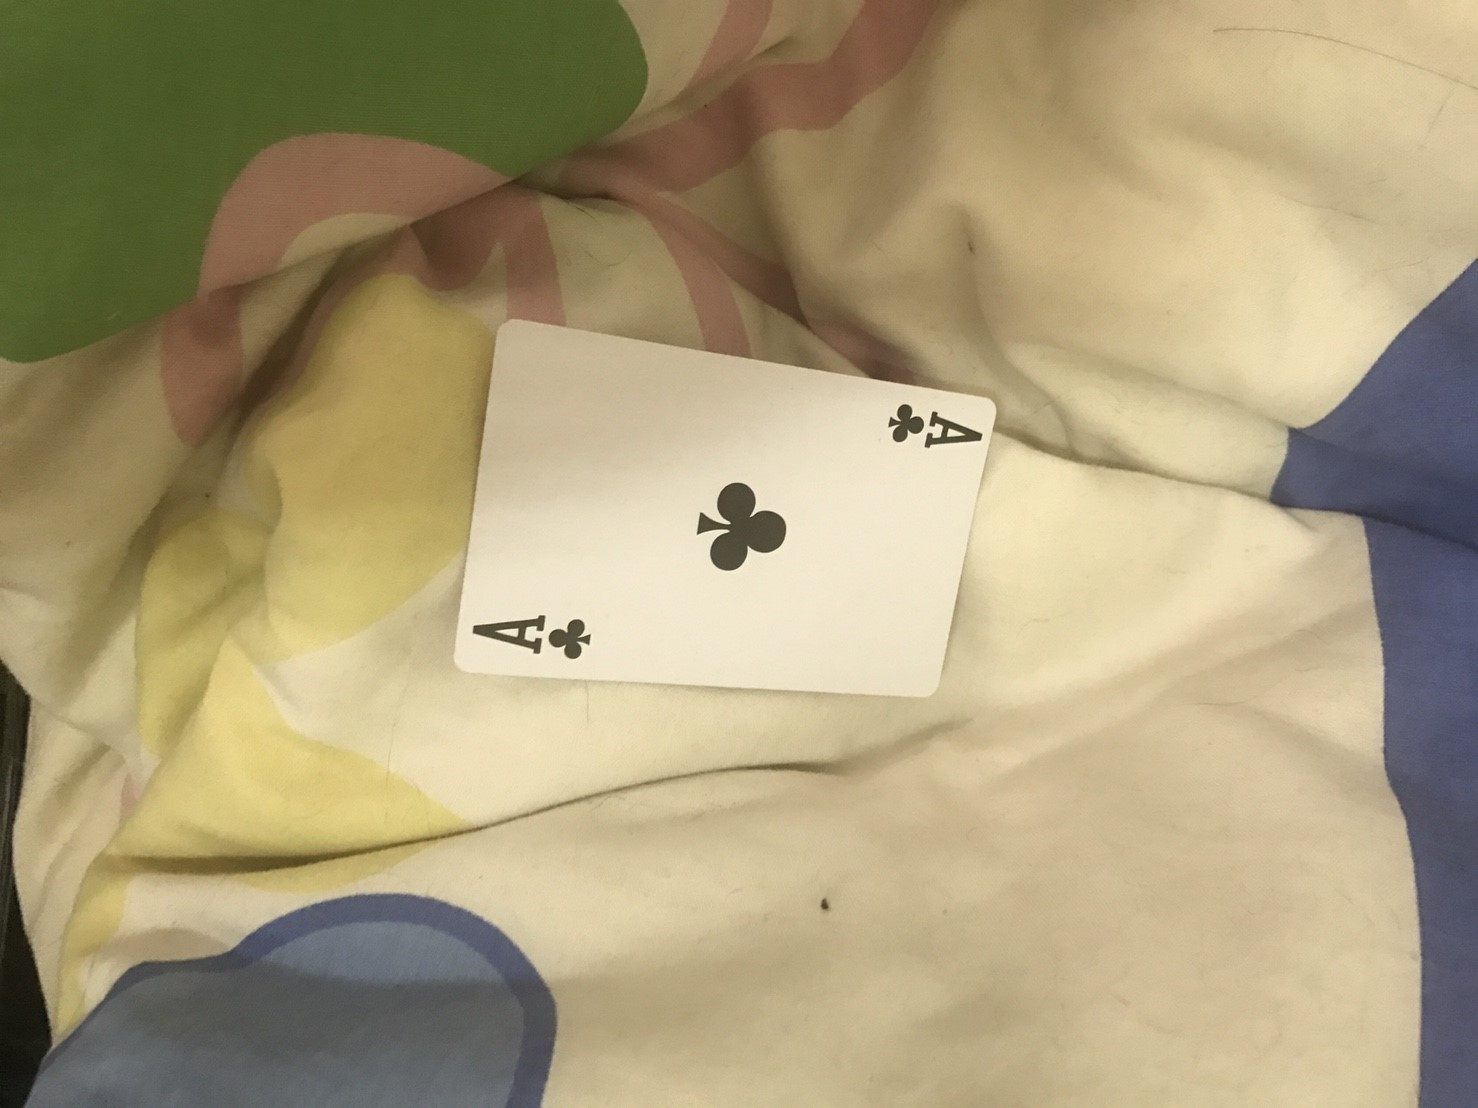clubs: (678, 470, 800, 578), (548, 619, 595, 665), (891, 397, 925, 450)
